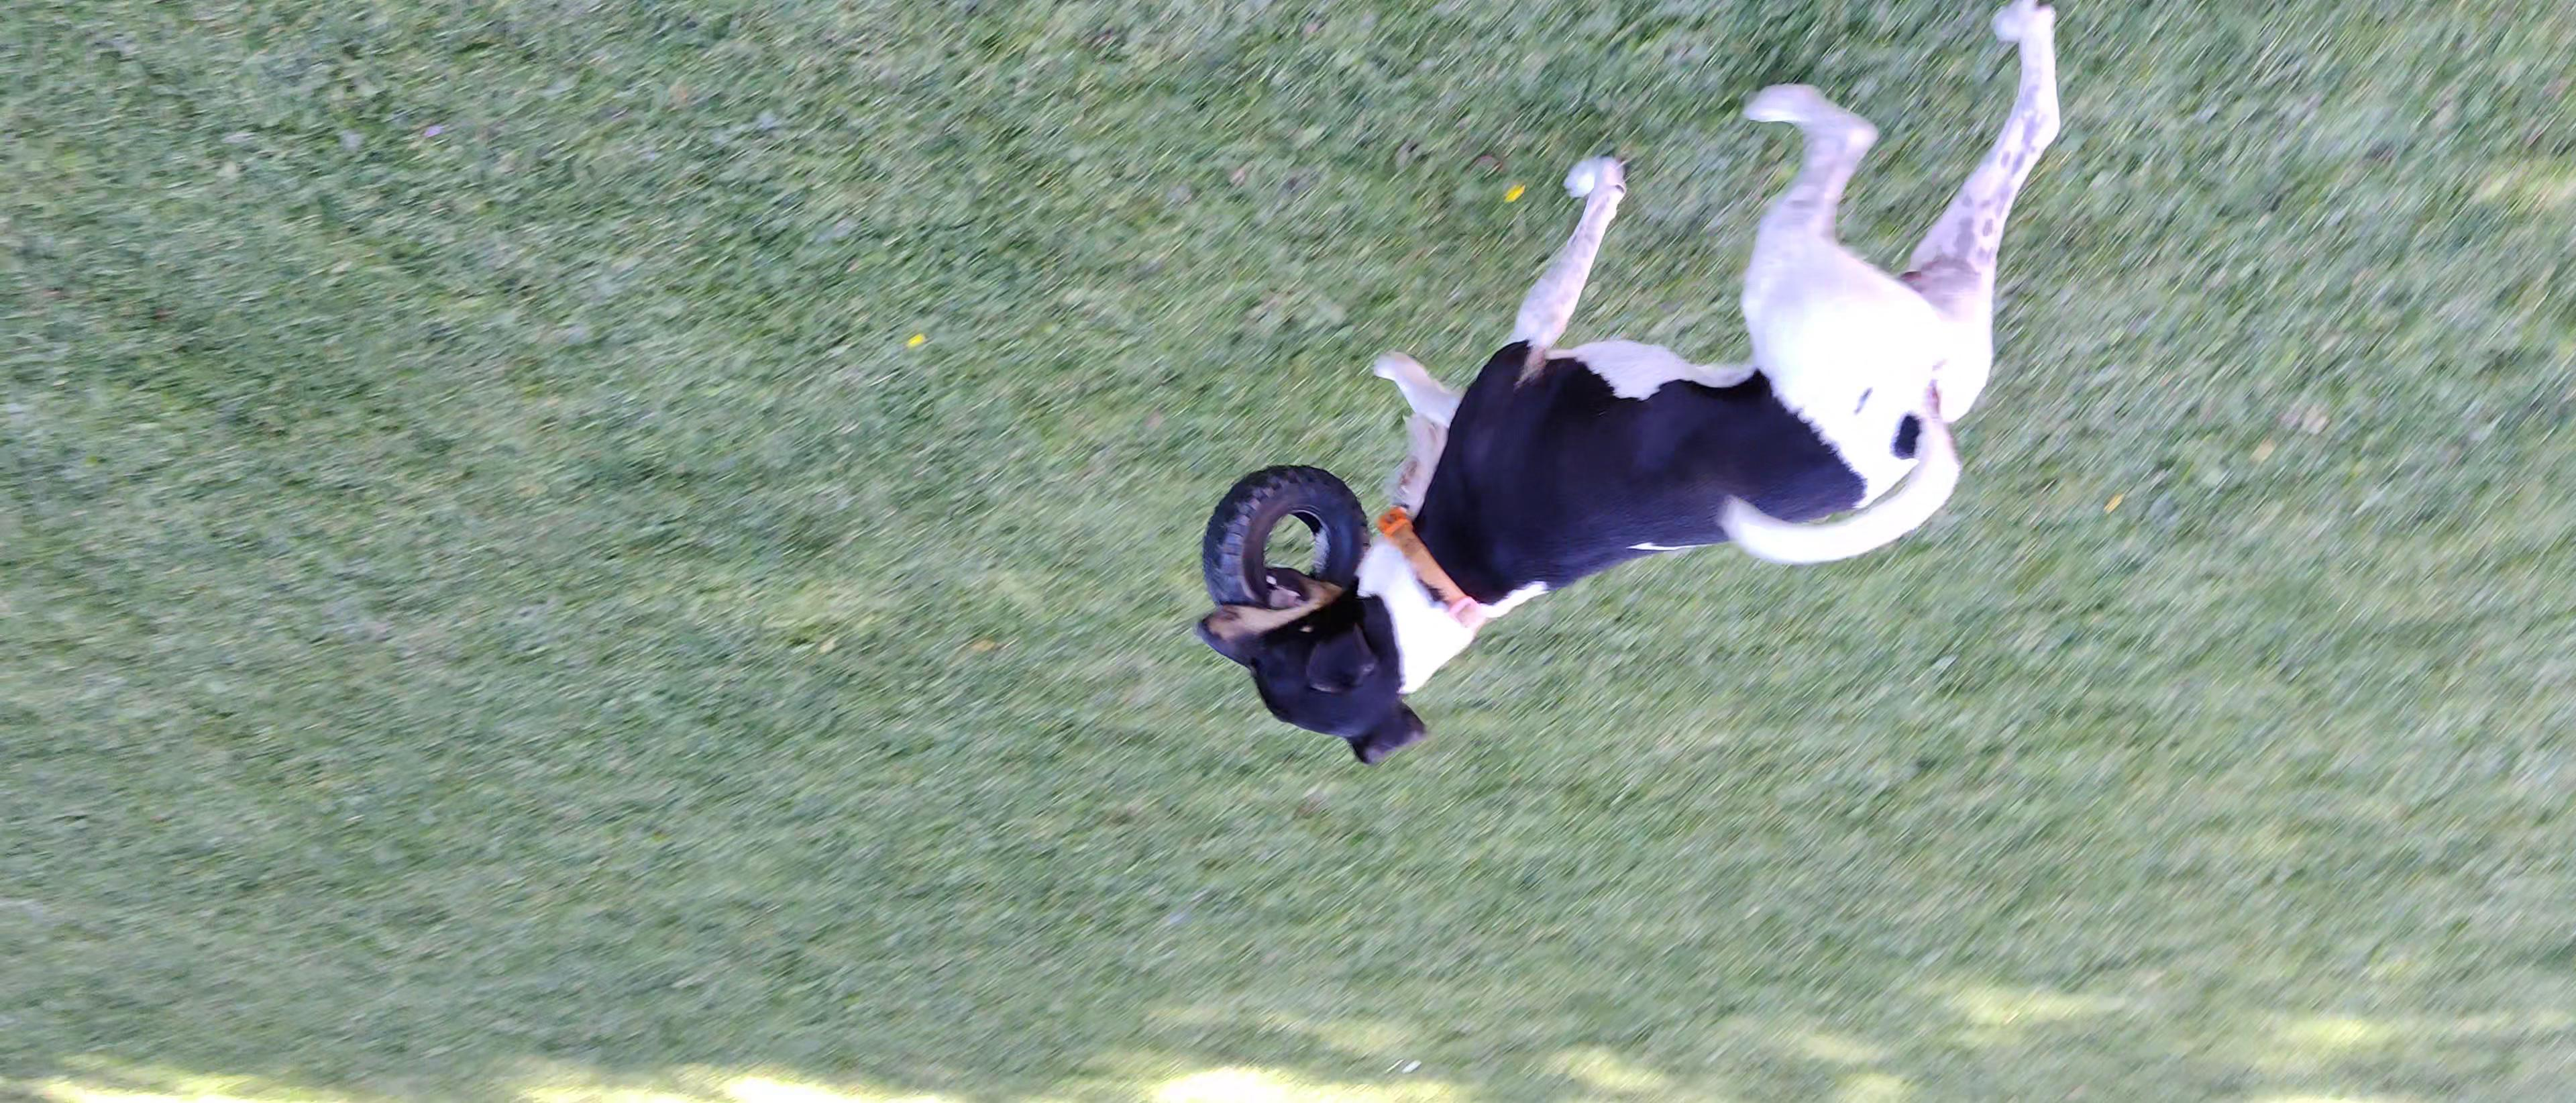Dog: (1153, 0, 2080, 771)
